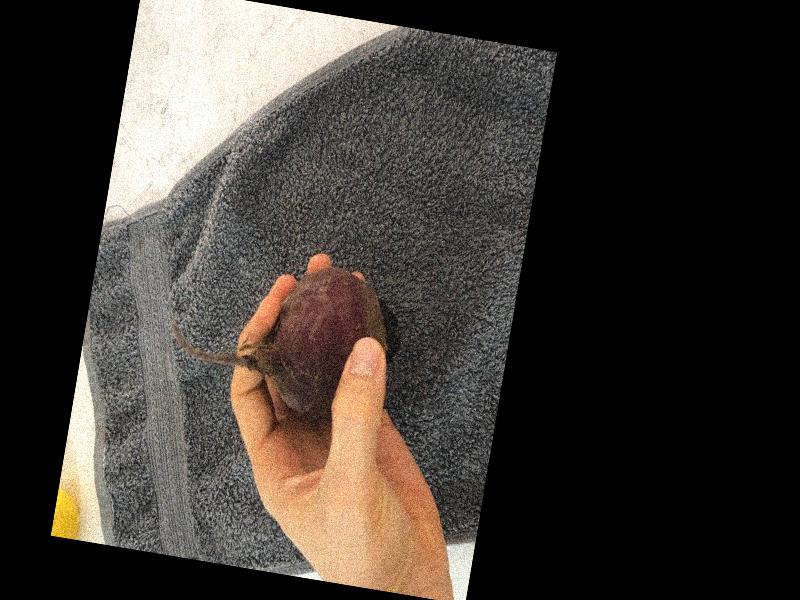Beet: (159, 242, 410, 431)
